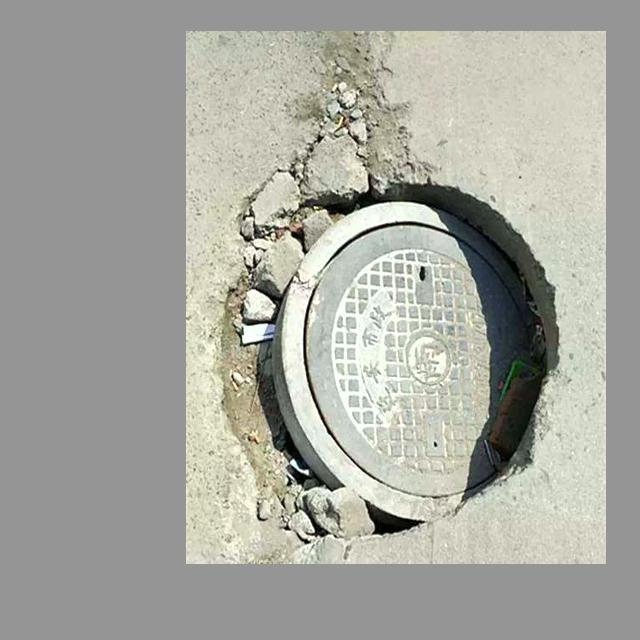circle: (227, 73, 558, 531)
